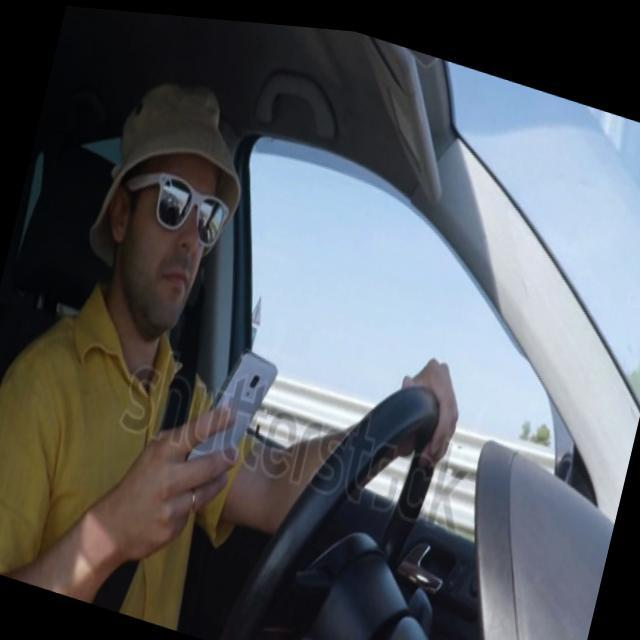PhoneCall: (182, 333, 278, 483)
